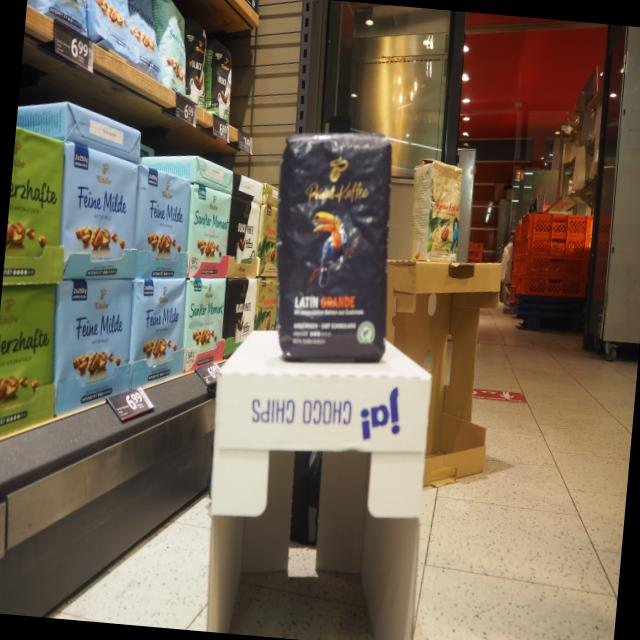LG Bohne: (272, 126, 394, 367)
